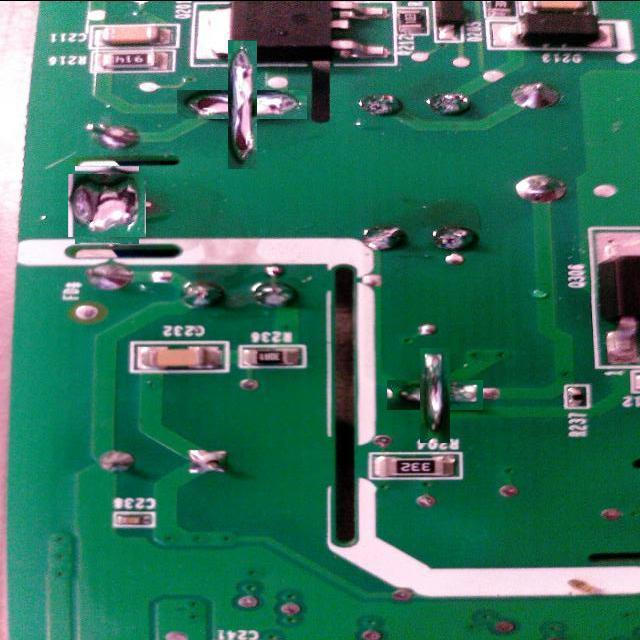Short_circuit: (203, 65, 282, 144), (72, 170, 142, 240), (404, 363, 466, 427)
